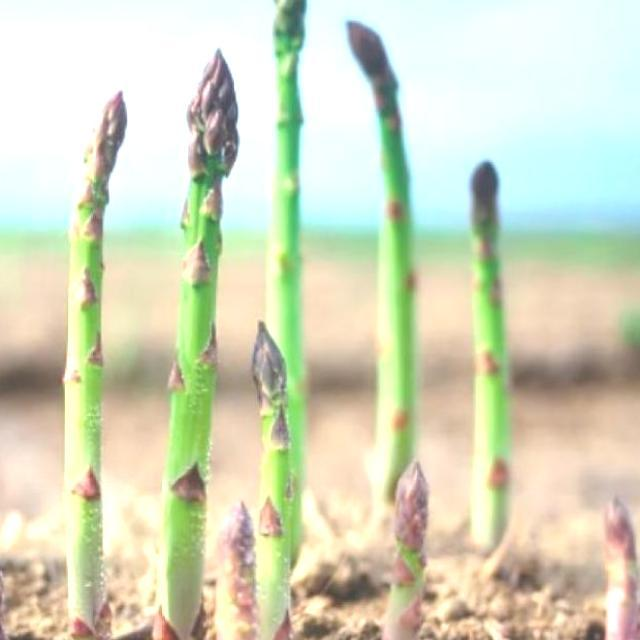aspargus: (162, 48, 239, 640)
